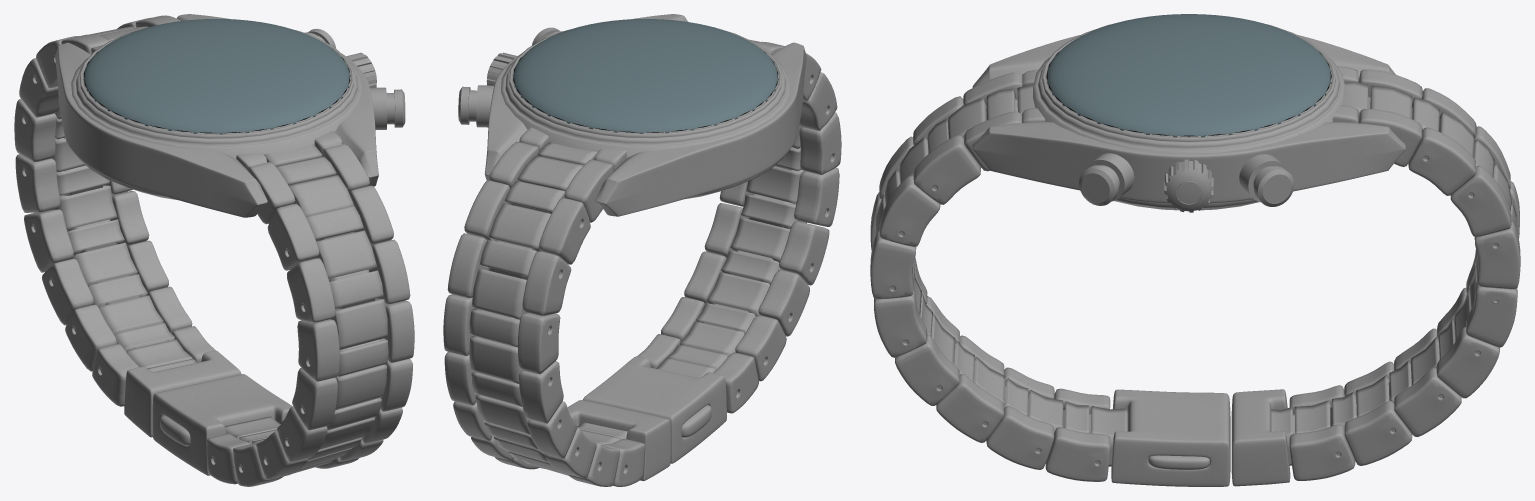
Rendered from WATCH 2.gltf.
The picture shows the model from 3 angles, left to right: view 1: azimuth 30°, elevation 25°; view 2: azimuth 150°, elevation 25°; view 3: azimuth 270°, elevation 25°; orthographic projection. The views are drawn at different scales.
Visible parts, largest first — view 1: Band outer, band inner, glass, wings, clasp, body.001, nobs; view 2: Band outer, band inner, glass, wings, clasp, body.001, nobs; view 3: Band outer, glass, wings, band inner, clasp, body.001, nobs.
Part boxes in pixels (<box>): Band outer: <box>14,15,414,486</box>; band inner: <box>51,26,388,473</box>; glass: <box>83,19,350,134</box>; wings: <box>55,14,378,217</box>; clasp: <box>124,350,292,475</box>; body.001: <box>71,27,362,199</box>; nobs: <box>304,28,405,129</box>; Band outer: <box>443,41,841,486</box>; band inner: <box>469,39,806,475</box>; glass: <box>512,19,778,133</box>; wings: <box>484,14,806,216</box>; clasp: <box>567,356,726,481</box>; body.001: <box>501,27,790,199</box>; nobs: <box>458,27,561,127</box>; Band outer: <box>870,66,1520,481</box>; glass: <box>1046,14,1331,137</box>; wings: <box>972,35,1405,203</box>; band inner: <box>875,81,1516,466</box>; clasp: <box>1111,389,1290,486</box>; body.001: <box>1033,24,1345,210</box>; nobs: <box>1079,153,1294,212</box>.
Bounding box in the file's own units: 2.24 × 2.9 × 4.17.
10 materials, 5 textured.
